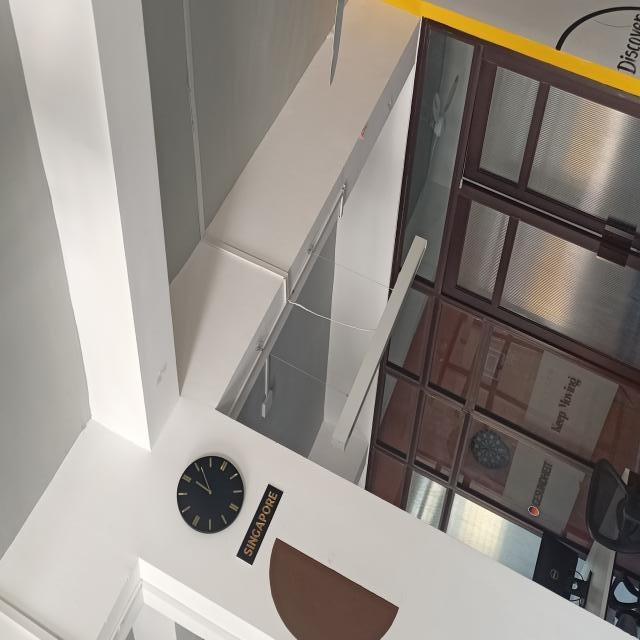fluorescent tube: (325, 227, 431, 452)
